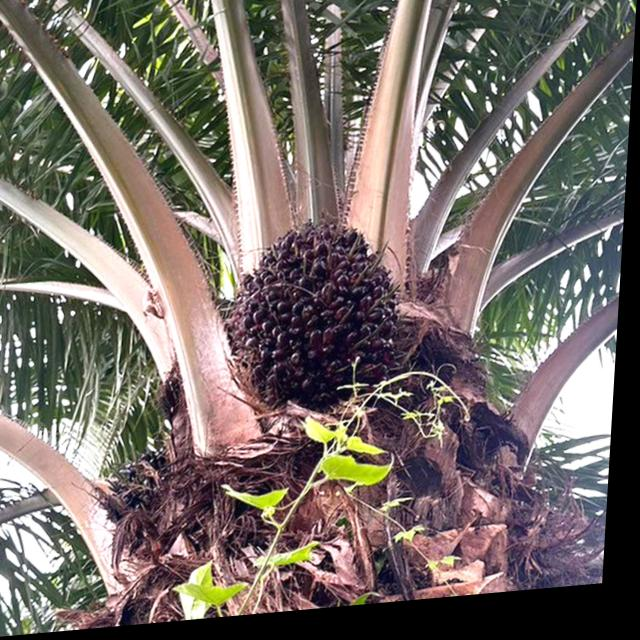ripe: (202, 199, 424, 430)
